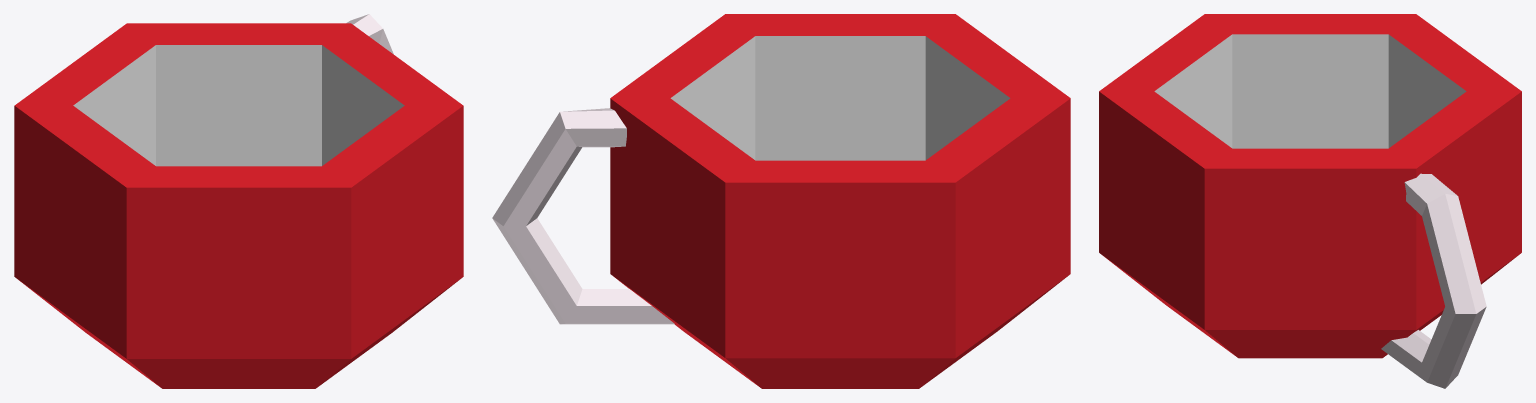
The model's file is CoffeeMug.glb.
3 renders of one model, left to right at view 1: azimuth 30°, elevation 25°; view 2: azimuth 150°, elevation 25°; view 3: azimuth 270°, elevation 25°, orthographic. The views are drawn at different scales.
Parts seen in each view (by area): view 1: Cylinder, Torus; view 2: Cylinder, Torus; view 3: Cylinder, Torus.
Part boxes in pixels (<box>): Cylinder: <box>14,23,463,388</box>; Torus: <box>346,14,393,54</box>; Cylinder: <box>610,14,1070,388</box>; Torus: <box>492,108,674,324</box>; Cylinder: <box>1099,14,1521,358</box>; Torus: <box>1381,173,1486,388</box>.
Size of the model in its own units: 0.2203 by 0.114 by 0.204.
